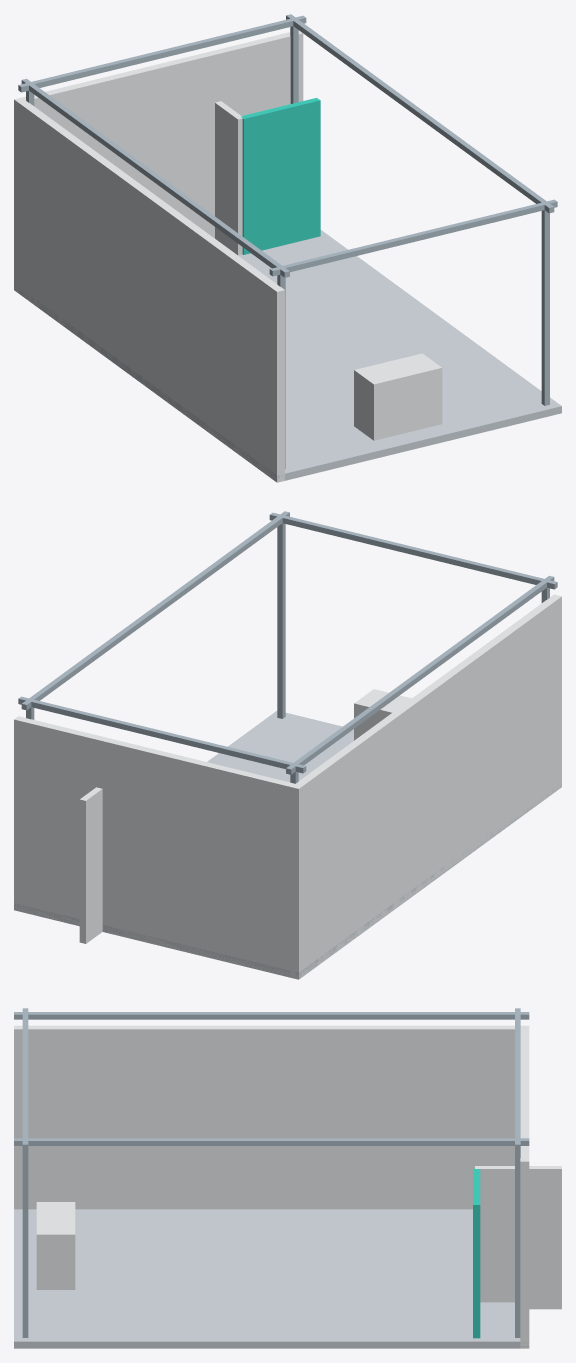
3 views of the same model, one above another, from view 1: azimuth 30°, elevation 25°; view 2: azimuth 150°, elevation 25°; view 3: azimuth 270°, elevation 25° (orthographic). The views are drawn at different scales.
Visible parts, largest first — view 1: Exhibition Booth Concept; view 2: Exhibition Booth Concept; view 3: Exhibition Booth Concept.
Part boxes in pixels (x1,y1,x2,y2): Exhibition Booth Concept: (14,14,561,482); Exhibition Booth Concept: (14,511,561,979); Exhibition Booth Concept: (14,1008,561,1348).
Bounding box in the file's own units: 5 × 3.49 × 8.51.
